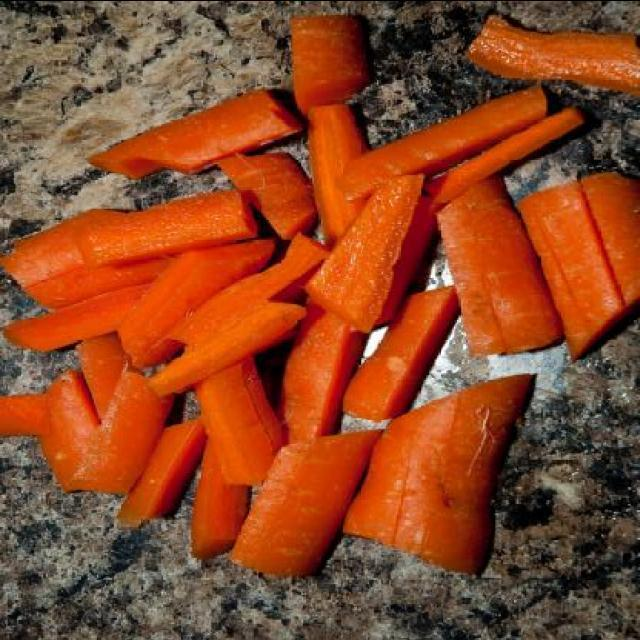Carrot: (0, 8, 638, 577), (338, 373, 530, 578)
